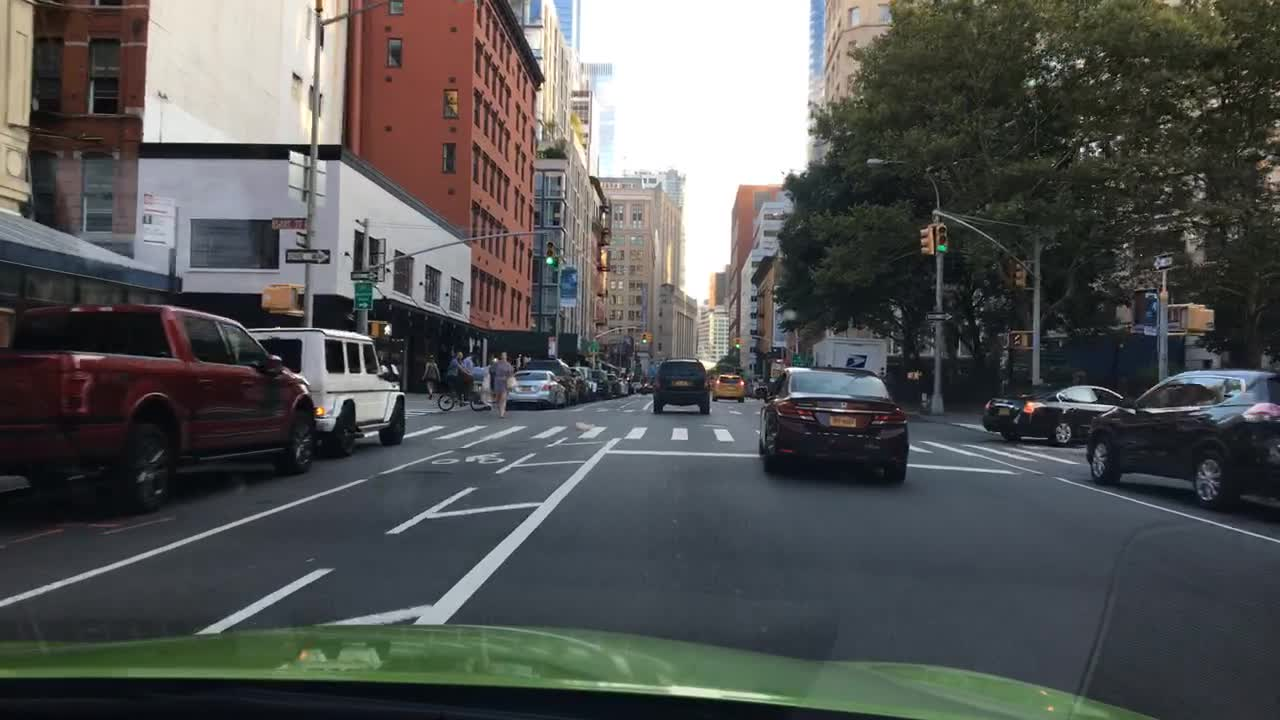bike: (436, 369, 497, 413)
car: (1085, 370, 1277, 511), (243, 327, 407, 459), (751, 364, 911, 481), (980, 379, 1145, 447), (652, 357, 711, 415), (523, 360, 579, 406), (504, 370, 568, 408), (574, 364, 600, 403), (713, 373, 746, 403), (592, 370, 614, 397), (594, 368, 611, 399), (629, 375, 644, 395), (620, 377, 635, 397), (638, 375, 653, 392)
person: (491, 352, 514, 418), (421, 352, 441, 400), (461, 350, 476, 402)
rider: (447, 351, 469, 408), (478, 350, 496, 413)
traffic light: (258, 282, 301, 315), (1184, 300, 1214, 335), (1159, 302, 1184, 332), (918, 226, 934, 255), (937, 222, 950, 255), (1013, 260, 1024, 288), (545, 240, 554, 266), (733, 334, 744, 350), (641, 330, 649, 347)
traffic sign: (287, 149, 326, 208), (141, 191, 176, 250), (284, 246, 331, 265), (352, 281, 374, 310), (1151, 250, 1182, 270), (269, 217, 309, 230), (348, 270, 379, 283), (789, 353, 813, 367), (925, 310, 954, 321), (585, 337, 601, 352)
truck: (1, 302, 319, 516), (810, 333, 888, 372)
